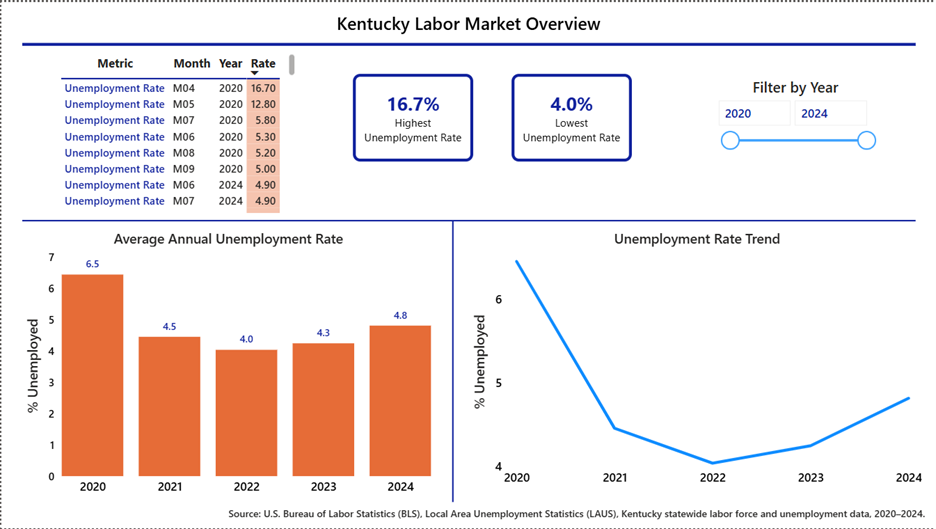

This screenshot's page, from the dashboard's own definition file:
{"tool":"powerbi","page":{"name":"Kentucky Labor Market Overview","canvas":[1280,720],"ordinal":0},"visuals":[{"type":"cardVisual","fields":{"Data":["public demographics.Highest Unemployment Rate"]},"box":[475.5,92.4,175.6,130.2],"z":0},{"type":"lineChart","title":"Unemployment Rate Trend","fields":{"Category":["public observations.year"],"Y":["Avg(public observations.value)"]},"box":[640,310,624.3,361.4],"z":1000},{"type":"slicer","title":"Filter by Year","fields":{"Values":["public observations.year"]},"box":[969.1,103,236.2,109],"z":2000},{"type":"clusteredColumnChart","title":"Average Annual Unemployment Rate","fields":{"Category":["public observations.year"],"Y":["Avg(public observations.value)"]},"box":[28.6,310,564.3,374.3],"z":3000},{"type":"textbox","box":[423.5,6.5,432.9,43.5],"z":4000},{"type":"tableEx","fields":{"Values":["public metrics.metric_name","public observations.period","public observations.year","public observations.value"]},"box":[75.7,66.2,331.1,227],"z":5000},{"type":"shape","box":[28.6,50,1222.9,15.7],"z":6000},{"type":"cardVisual","fields":{"Data":["public demographics.Lowest Unemployment Rate"]},"box":[693.5,92.4,175.6,130.2],"z":7000},{"type":"shape","box":[28.2,287.9,1222.6,21],"z":8000},{"type":"shape","box":[605.7,298.6,24.3,385.7],"z":9000},{"type":"textbox","box":[305.7,684.3,974.3,35.7],"z":10000}]}

Visuals, with their boxes in screenshot pixels (x1, y1, x2, y2), scaled from the page's 1280x720 canvas onto the 936x529 screenshot:
cardVisual - public demographics.Highest Unemployment Rate: <box>348,68,476,164</box>
"Unemployment Rate Trend" lineChart: <box>468,228,925,493</box>
"Filter by Year" slicer: <box>709,76,881,156</box>
"Average Annual Unemployment Rate" clusteredColumnChart: <box>21,228,434,503</box>
textbox: <box>310,5,626,37</box>
tableEx - public metrics.metric_name x public observations.period: <box>55,49,297,215</box>
shape: <box>21,37,915,48</box>
cardVisual - public demographics.Lowest Unemployment Rate: <box>507,68,636,164</box>
shape: <box>21,212,915,227</box>
shape: <box>443,219,461,503</box>
textbox: <box>224,503,935,528</box>
